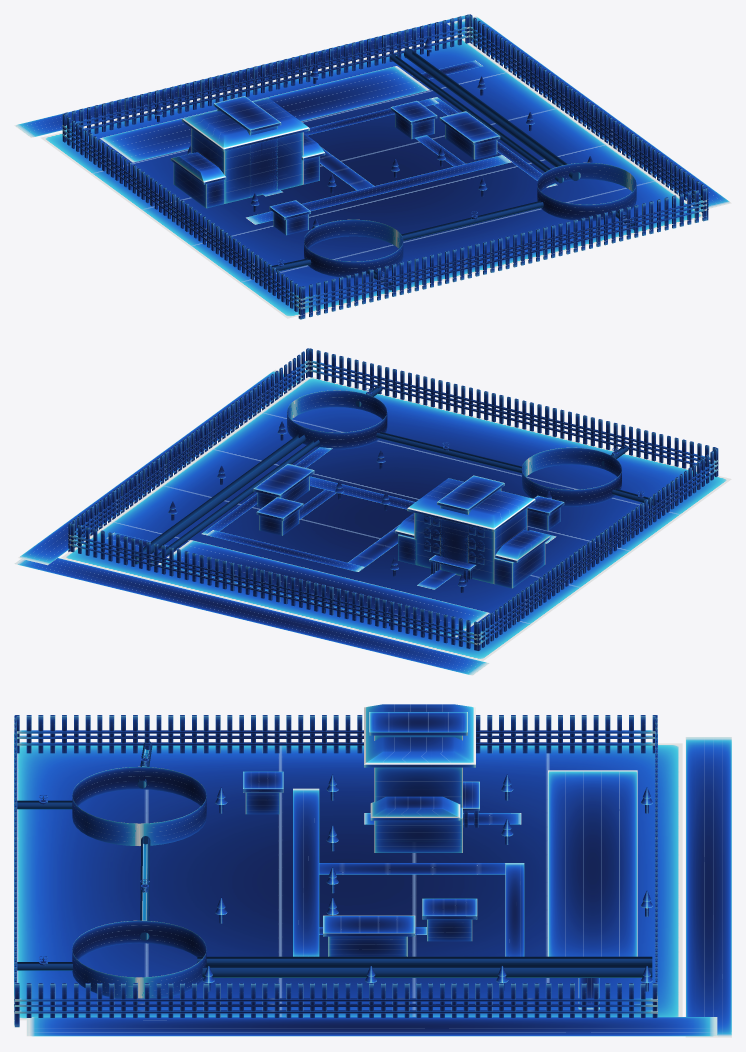
Rendered from queren.gltf.
3 renders of one model, top to bottom at view 1: azimuth 30°, elevation 25°; view 2: azimuth 150°, elevation 25°; view 3: azimuth 270°, elevation 25°, orthographic. The views are drawn at different scales.
Visible parts, largest first — view 1: shuichang水厂meiyou没有shuichi水池meiyoulou没有喽, 水厂.1, 圆柱.000, 圆柱.1, Cylinder.001, Cylinder, Cylinder.005; view 2: shuichang水厂meiyou没有shuichi水池meiyoulou没有喽, 水厂.1, 圆柱.1, 圆柱.000, Cylinder.001, Cylinder, Cylinder.005; view 3: shuichang水厂meiyou没有shuichi水池meiyoulou没有喽, 水厂.1, Cylinder.001, 圆柱.000, 圆柱.1, Cylinder, Cylinder.005.
Part boxes in pixels (bbox=[...]): shuichang水厂meiyou没有shuichi水池meiyoulou没有喽: bbox=[14, 14, 731, 319]; 水厂.1: bbox=[170, 96, 325, 208]; 圆柱.000: bbox=[304, 219, 403, 278]; 圆柱.1: bbox=[537, 162, 636, 221]; Cylinder.001: bbox=[404, 48, 580, 180]; Cylinder: bbox=[390, 54, 563, 183]; Cylinder.005: bbox=[401, 200, 543, 240]; shuichang水厂meiyou没有shuichi水池meiyoulou没有喽: bbox=[14, 348, 731, 675]; 水厂.1: bbox=[395, 475, 550, 588]; 圆柱.1: bbox=[287, 390, 387, 449]; 圆柱.000: bbox=[522, 447, 621, 506]; Cylinder.001: bbox=[131, 434, 305, 564]; Cylinder: bbox=[150, 440, 319, 566]; Cylinder.005: bbox=[376, 431, 521, 473]; shuichang水厂meiyou没有shuichi水池meiyoulou没有喽: bbox=[14, 715, 731, 1037]; 水厂.1: bbox=[364, 704, 479, 852]; Cylinder.001: bbox=[202, 964, 652, 977]; 圆柱.000: bbox=[72, 766, 206, 845]; 圆柱.1: bbox=[72, 920, 206, 998]; Cylinder: bbox=[197, 956, 652, 964]; Cylinder.005: bbox=[140, 836, 150, 940].
Bounding box in the file's own units: 160 × 24.69 × 161.
14 materials, 14 textured.
